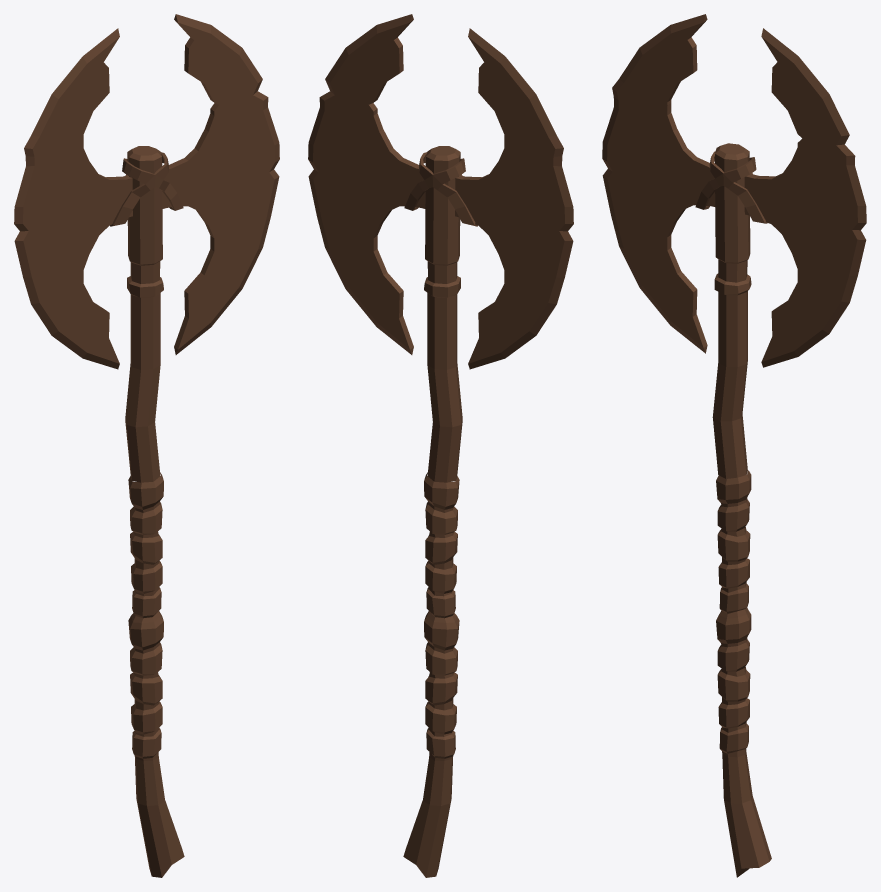
File: Axe_Double.glb
3 views of the same model, side by side, from view 1: azimuth 30°, elevation 25°; view 2: azimuth 150°, elevation 25°; view 3: azimuth 330°, elevation 25° (orthographic).
Bounding box in the file's own units: 2.06 × 6.35 × 0.2609.
